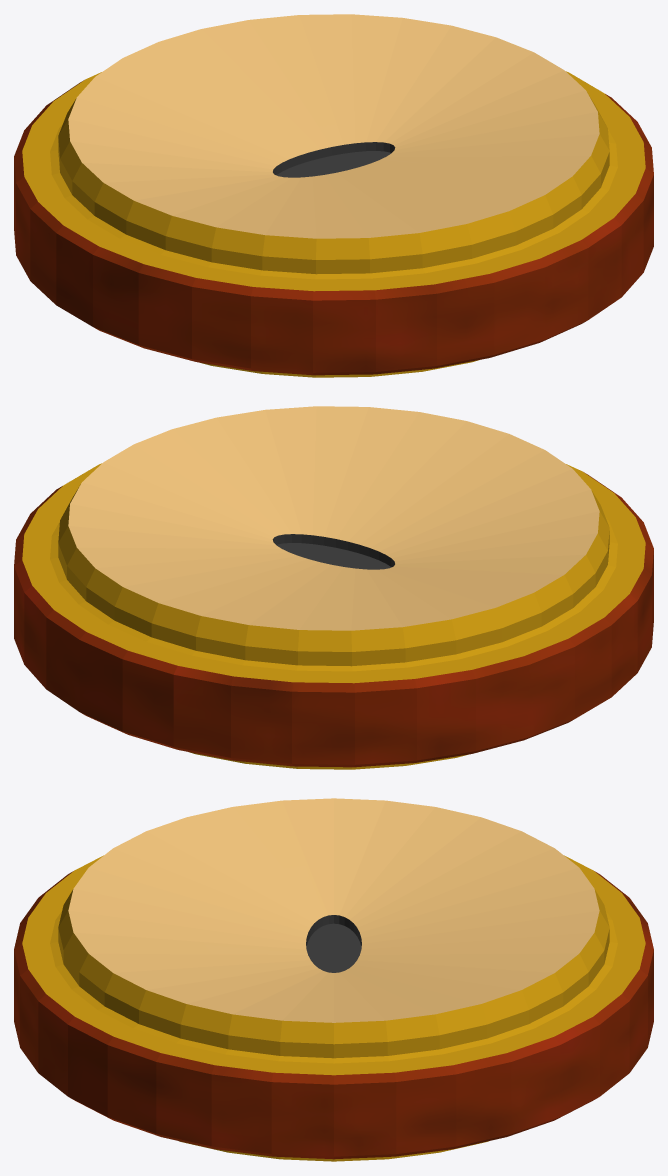
Rendered from Fork_Platter.fbx.
The picture shows the model from 3 angles, top to bottom: view 1: azimuth 30°, elevation 25°; view 2: azimuth 150°, elevation 25°; view 3: azimuth 270°, elevation 25°; orthographic projection.
Visible parts, largest first — view 1: Cylinder; view 2: Cylinder; view 3: Cylinder.
Boxes of the visible parts, left/top/right/bottom form: Cylinder: left=14, top=14, right=653, bottom=377; Cylinder: left=14, top=406, right=653, bottom=769; Cylinder: left=14, top=798, right=653, bottom=1161.
Bounding box in the file's own units: 232 × 53.79 × 232.
